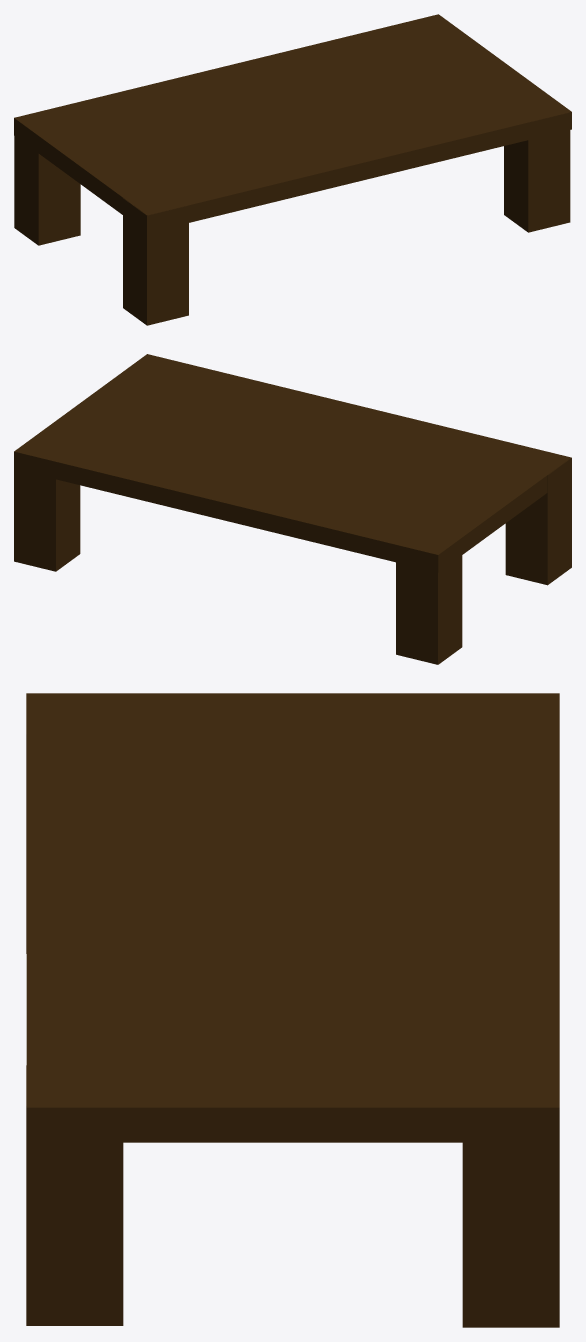
Rendered from Tafel_Woonkamer.fbx.
The picture shows the model from 3 angles, top to bottom: view 1: azimuth 30°, elevation 25°; view 2: azimuth 150°, elevation 25°; view 3: azimuth 270°, elevation 25°; orthographic projection. The views are drawn at different scales.
Parts seen in each view (by area): view 1: Cube, Cube.001, Cube.002, Cube.004; view 2: Cube, Cube.004, Cube.003, Cube.001; view 3: Cube, Cube.003, Cube.002.
Part boxes in pixels (bbox=[...]): Cube: bbox=[14, 14, 571, 222]; Cube.001: bbox=[123, 198, 188, 325]; Cube.002: bbox=[504, 112, 570, 232]; Cube.004: bbox=[14, 136, 80, 245]; Cube: bbox=[14, 354, 571, 572]; Cube.004: bbox=[396, 555, 462, 664]; Cube.003: bbox=[14, 469, 80, 571]; Cube.001: bbox=[505, 457, 571, 585]; Cube: bbox=[26, 693, 559, 1142]; Cube.003: bbox=[462, 1108, 559, 1327]; Cube.002: bbox=[26, 1065, 123, 1325].
Size of the model in its own units: 405 by 100 by 220.
